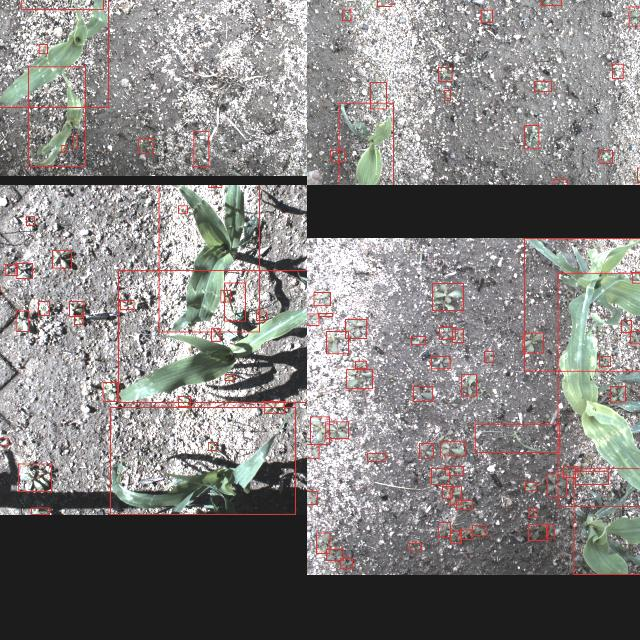crop: (117, 270, 307, 402), (110, 406, 296, 514), (558, 272, 640, 506), (524, 237, 640, 370), (158, 185, 259, 331), (0, 0, 108, 107), (573, 467, 640, 574), (28, 66, 86, 166), (339, 102, 393, 185)
weed: (474, 423, 560, 452), (18, 463, 52, 491), (432, 282, 463, 310), (224, 282, 246, 320), (310, 416, 330, 444), (326, 331, 348, 354), (347, 369, 373, 388), (194, 132, 208, 166), (522, 332, 544, 352), (547, 474, 567, 496), (370, 82, 386, 108), (346, 318, 366, 338), (576, 472, 608, 484), (440, 441, 466, 455), (326, 422, 348, 438), (524, 124, 538, 148), (52, 250, 72, 266), (528, 524, 548, 540), (462, 374, 476, 396), (102, 382, 118, 401), (431, 468, 449, 484), (413, 386, 433, 400), (316, 533, 330, 553), (16, 310, 28, 332), (138, 138, 154, 154), (68, 300, 84, 316), (16, 262, 32, 278), (610, 386, 626, 402), (264, 401, 284, 413), (314, 291, 331, 305), (432, 356, 451, 368), (419, 442, 433, 458), (629, 6, 640, 25), (451, 486, 462, 504), (438, 67, 452, 81), (612, 62, 624, 78), (439, 326, 455, 338), (534, 81, 552, 91), (326, 550, 344, 560), (330, 150, 344, 162), (439, 522, 451, 536), (456, 499, 472, 509), (600, 150, 612, 163), (39, 301, 50, 315), (307, 444, 318, 458), (452, 328, 463, 342), (307, 313, 319, 325), (368, 453, 386, 461), (445, 466, 463, 474), (472, 525, 486, 535), (564, 466, 578, 476), (451, 531, 462, 543), (5, 264, 18, 274), (307, 490, 317, 503), (410, 336, 426, 344), (482, 9, 492, 21), (30, 508, 50, 514), (178, 396, 190, 406), (221, 289, 231, 301), (442, 486, 452, 498), (460, 529, 472, 539), (340, 558, 352, 568), (599, 356, 611, 366), (630, 331, 640, 343), (621, 320, 631, 332), (120, 300, 134, 308), (546, 524, 554, 538), (484, 351, 494, 362), (524, 482, 536, 491), (541, 0, 561, 5), (74, 314, 84, 324), (256, 310, 266, 320), (631, 271, 640, 282), (343, 8, 351, 20), (212, 328, 220, 340), (355, 360, 367, 368), (409, 543, 421, 551), (377, 0, 392, 6), (552, 179, 567, 185), (72, 134, 78, 148), (39, 44, 47, 54), (178, 204, 188, 212), (528, 508, 538, 516), (208, 442, 216, 450), (26, 216, 34, 224), (0, 437, 8, 445), (444, 90, 450, 100), (318, 312, 332, 316), (224, 374, 233, 380), (637, 167, 640, 182), (62, 144, 66, 152)
